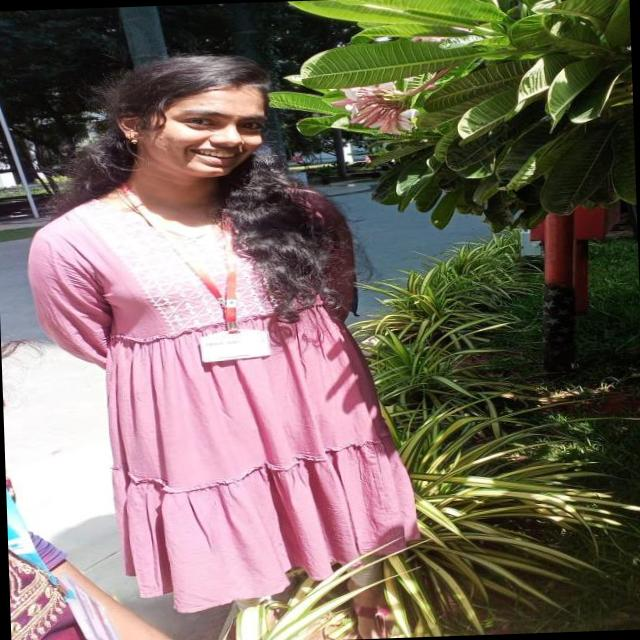id_card: (120, 174, 274, 364)
